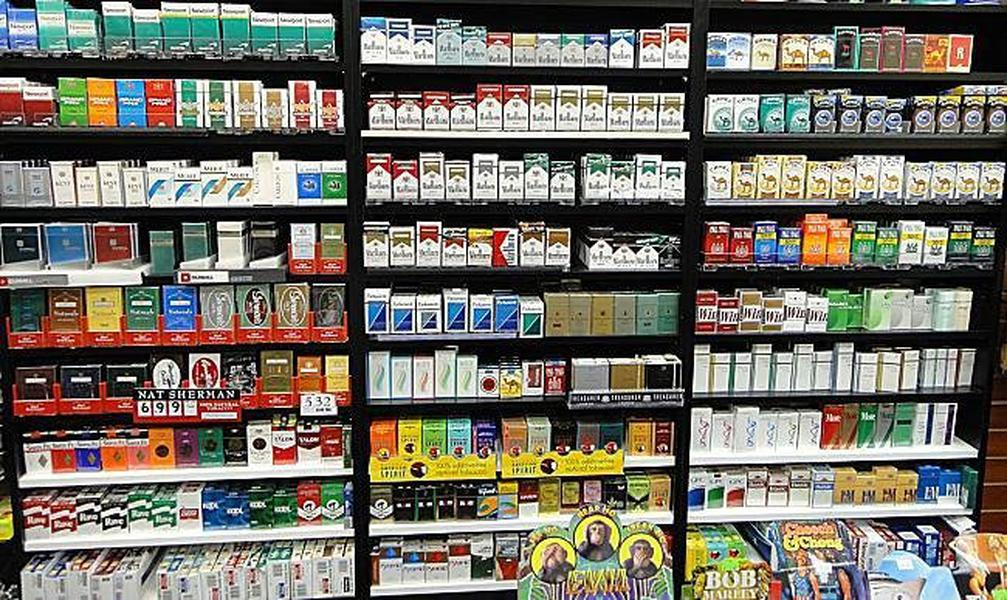lucky_strike_red: (479, 367, 499, 399)
marlboro_mentol: (636, 157, 660, 197), (527, 157, 550, 197), (586, 158, 608, 199), (664, 162, 686, 201), (560, 34, 585, 67), (537, 36, 560, 67), (613, 167, 632, 201)
marlboro_red: (365, 155, 392, 202), (416, 223, 443, 267), (476, 85, 502, 130), (506, 85, 529, 134), (665, 23, 688, 67), (451, 94, 476, 132), (423, 92, 448, 130), (443, 230, 469, 265), (369, 97, 395, 130), (393, 162, 415, 201), (641, 30, 664, 67), (397, 97, 422, 129), (488, 34, 511, 65)
